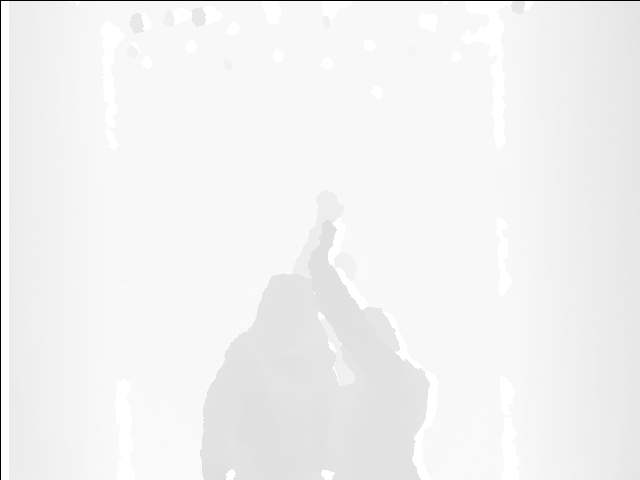hand: (306, 222, 336, 264), (314, 190, 342, 219)
